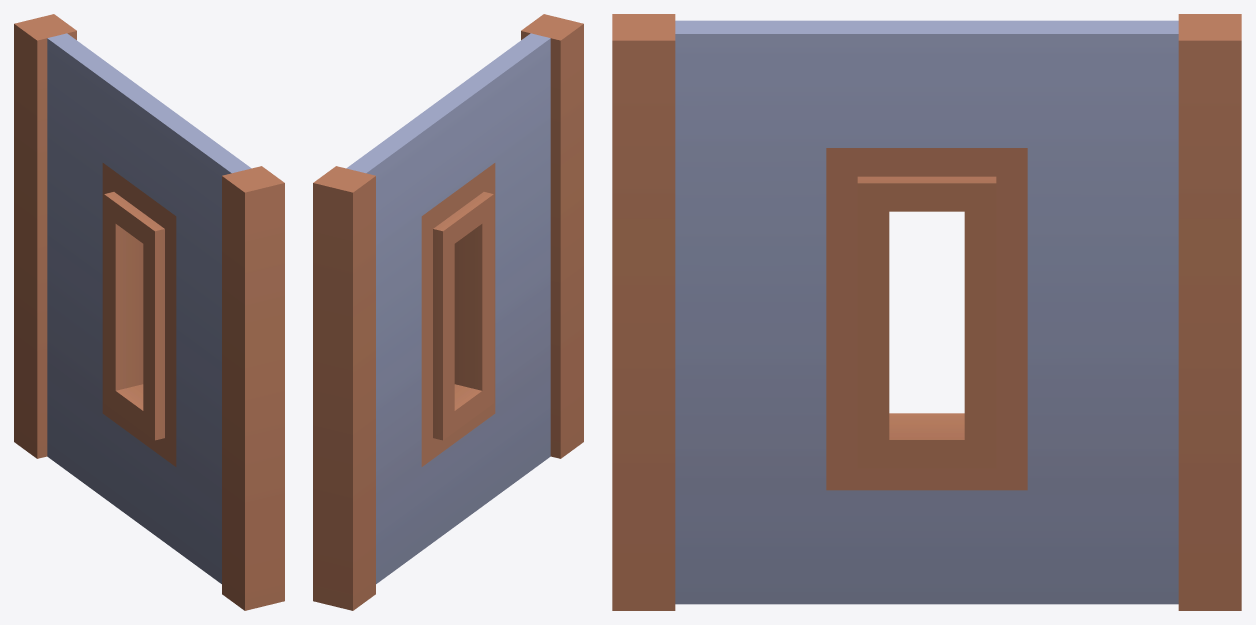
Rendered from kenney-fantasy-town-wall-window-small.glb.
3 views of the same model, side by side, from view 1: azimuth 30°, elevation 25°; view 2: azimuth 150°, elevation 25°; view 3: azimuth 270°, elevation 25° (orthographic). The views are drawn at different scales.
Visible parts, largest first — view 1: wall-window-small; view 2: wall-window-small; view 3: wall-window-small.
Boxes of the visible parts, x1,y1,x2,y2 form: wall-window-small: (14, 14, 284, 610); wall-window-small: (313, 14, 583, 610); wall-window-small: (612, 14, 1241, 610).
Size of the model in its own units: 0.1 by 1 by 1.
Materials: 1 (1 with a texture image).
